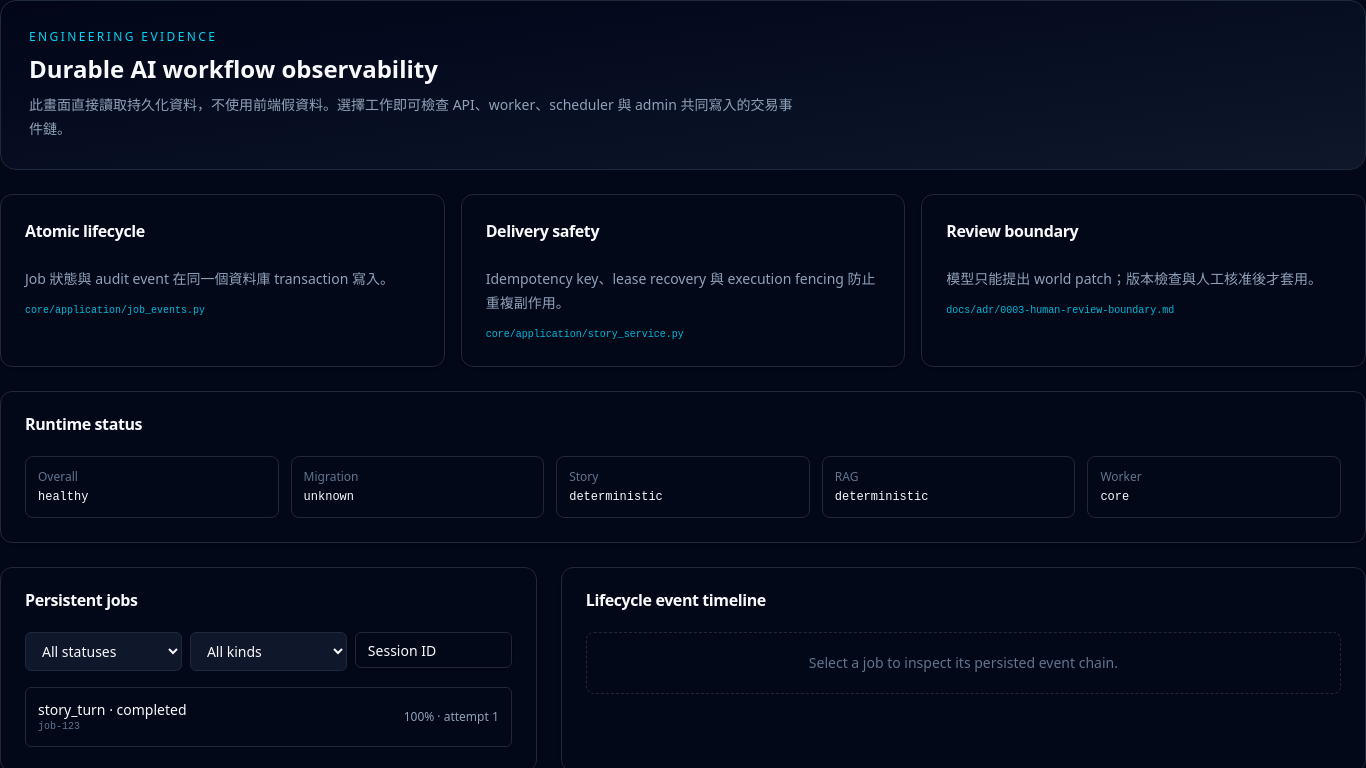
Scenario: EngineeringEvidence › filters jobs and exposes an honest empty state
The image size is (1366, 768).
expect the text "job-123" is shown: met, box [38, 721, 80, 732]
Step 1. Type "missing" into the field named "Session filter" → (433, 650), box [355, 632, 512, 668]
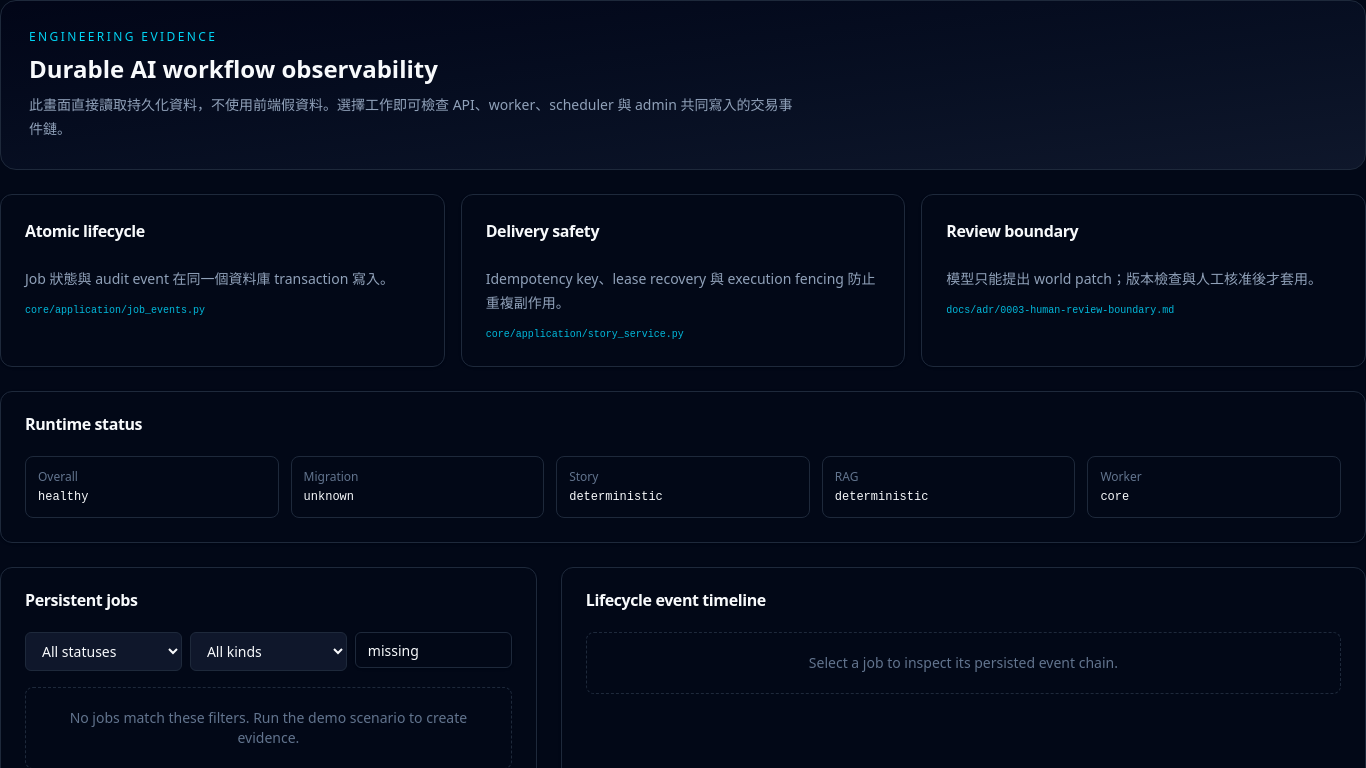
expect the text "No jobs match these filters. Run the demo scenario to create evidence." is shown: met, box [25, 687, 512, 767]
